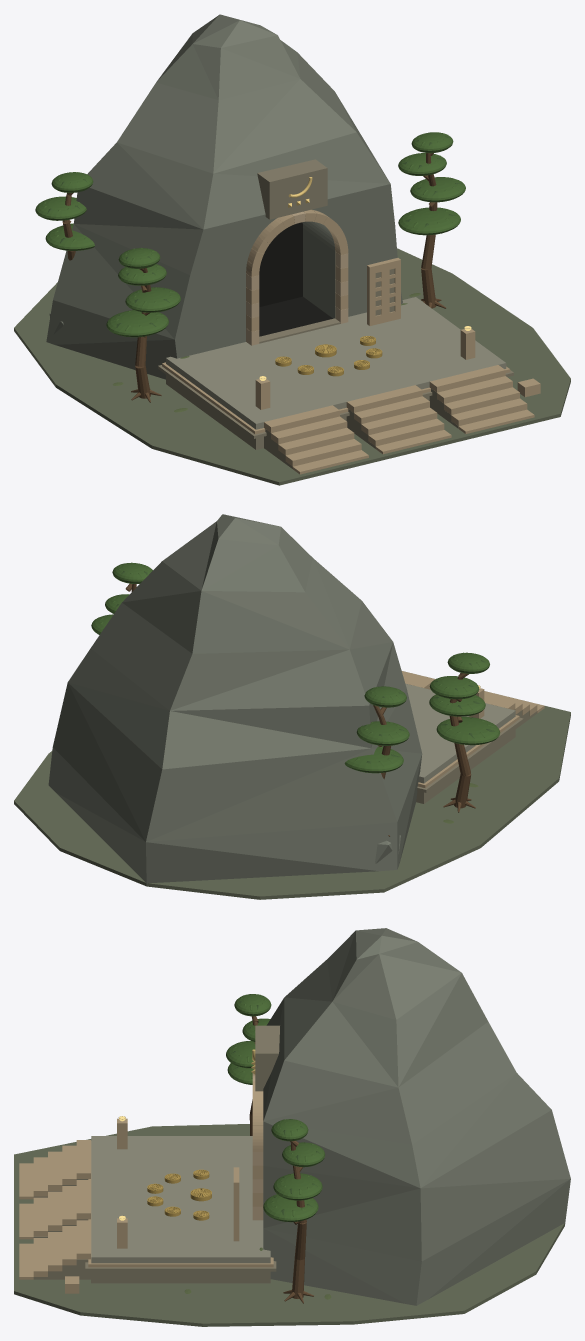
Rendered from xy_xieyue.glb.
3 views of the same model, one above another, from view 1: azimuth 30°, elevation 25°; view 2: azimuth 150°, elevation 25°; view 3: azimuth 270°, elevation 25° (orthographic). The views are drawn at different scales.
Visible parts, largest first — view 1: xy_xieyue; view 2: xy_xieyue; view 3: xy_xieyue.
Boxes of the visible parts, bbox=[...] form: xy_xieyue: bbox=[14, 14, 570, 485]; xy_xieyue: bbox=[14, 514, 570, 899]; xy_xieyue: bbox=[14, 928, 570, 1326].
Size of the model in its own units: 20.57 by 13.92 by 24.
